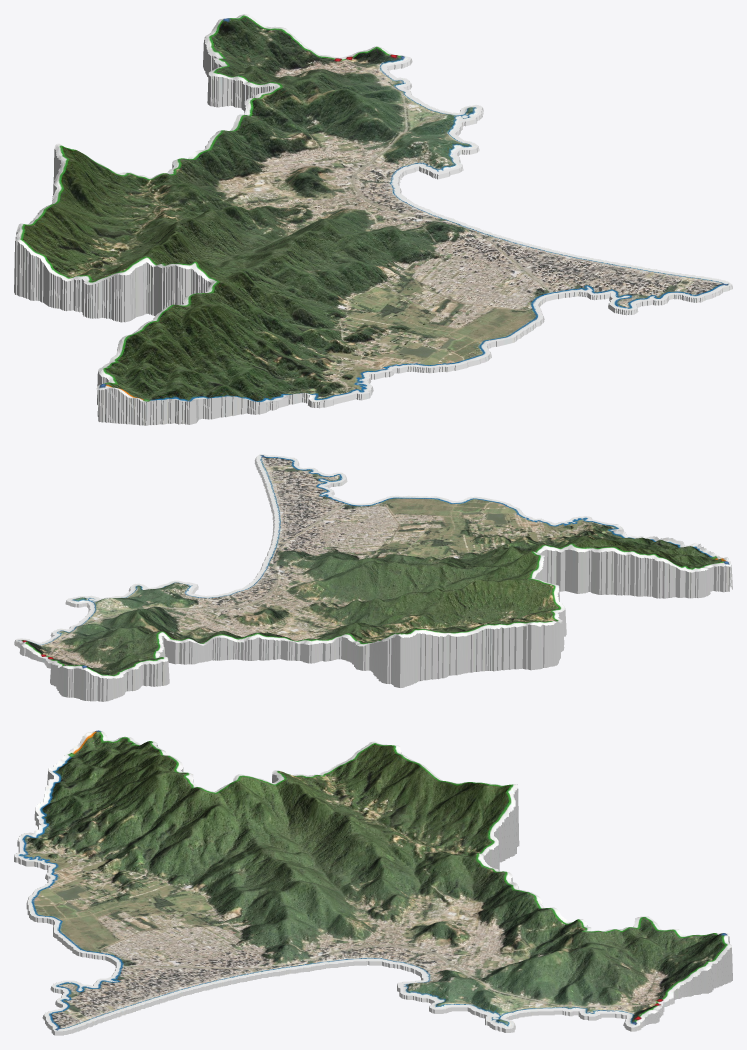
The picture shows the model from 3 angles, top to bottom: view 1: azimuth 30°, elevation 25°; view 2: azimuth 150°, elevation 25°; view 3: azimuth 270°, elevation 25°; orthographic projection. The views are drawn at different scales.
Bounding box in the file's own units: 0.9999 × 0.1009 × 1.1.
1 material, 1 textured.
